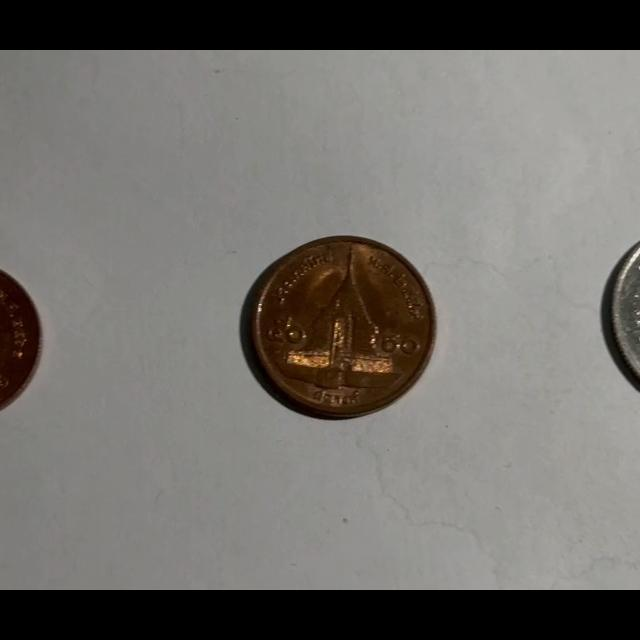25-satang: (0, 261, 42, 424)
50-satang: (246, 237, 434, 417)
